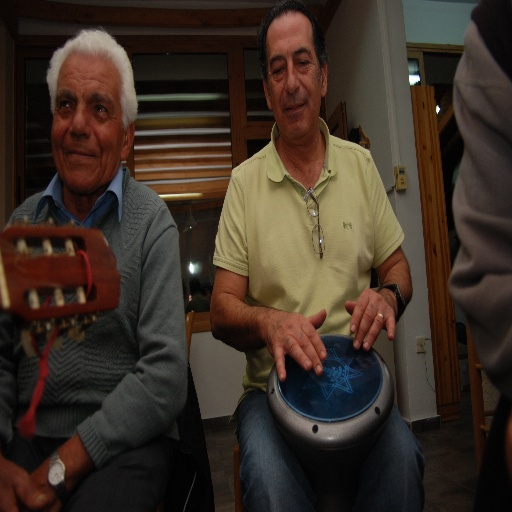hand: (266, 305, 327, 385), (344, 286, 395, 354), (0, 463, 47, 511), (16, 464, 63, 511)
